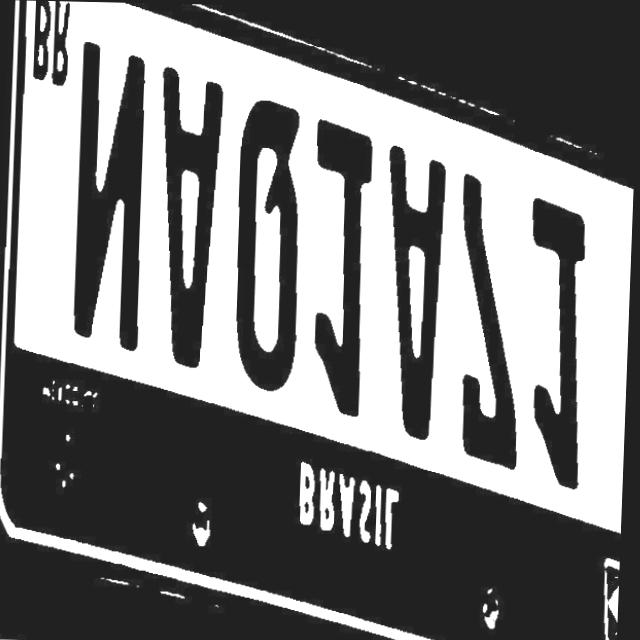1: (523, 199, 605, 493), (308, 116, 382, 422)
7: (452, 170, 534, 469)
a: (148, 62, 229, 371), (381, 153, 458, 445)
n: (69, 40, 152, 356)
q: (227, 93, 305, 402)
